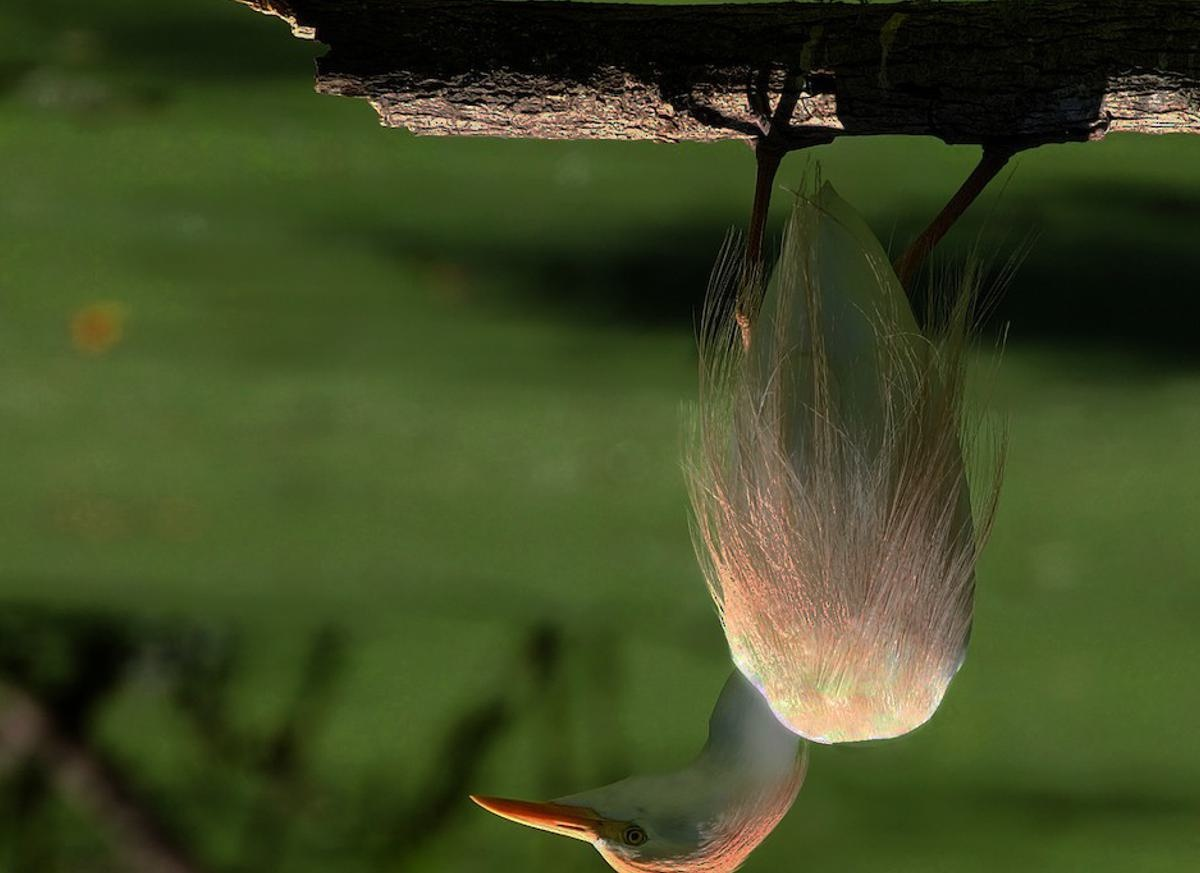egret: (463, 108, 1010, 860)
